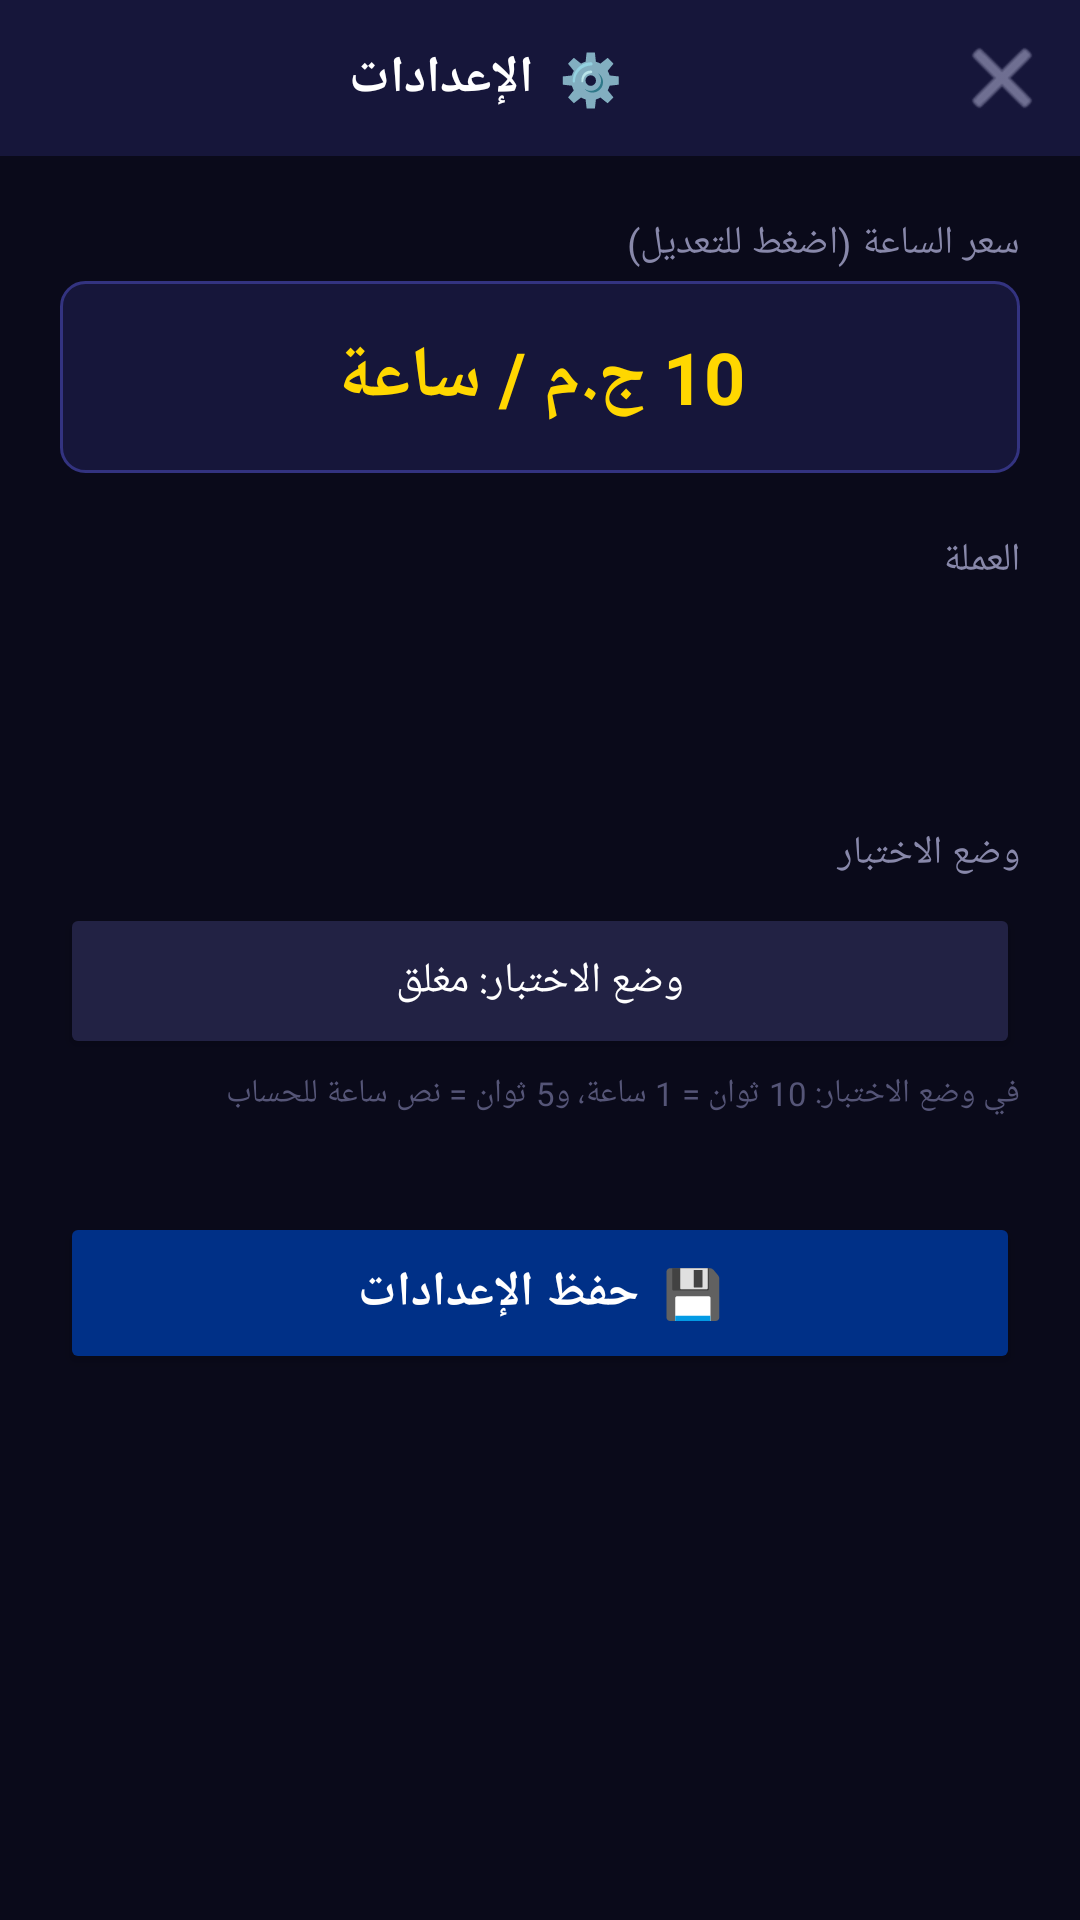

Icon bounding boxes for this 1080×1920 phone screenshot, format (x1, y1, x2, y2):
close clear cancel: (972, 48, 1032, 108)
